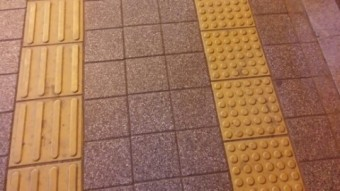guideBlock: (11, 103, 85, 158), (21, 48, 84, 98), (24, 5, 84, 42), (3, 168, 80, 191)
warningBlock: (208, 79, 287, 135), (224, 136, 304, 189), (203, 28, 263, 78), (196, 1, 255, 26)
